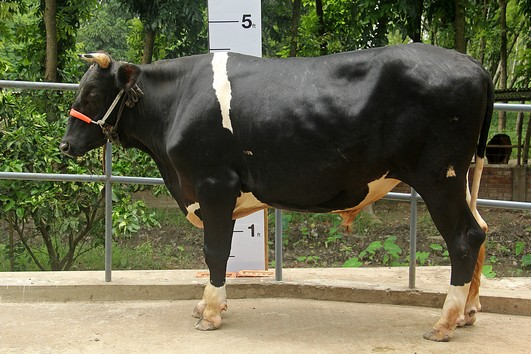cow: (57, 40, 493, 341)
